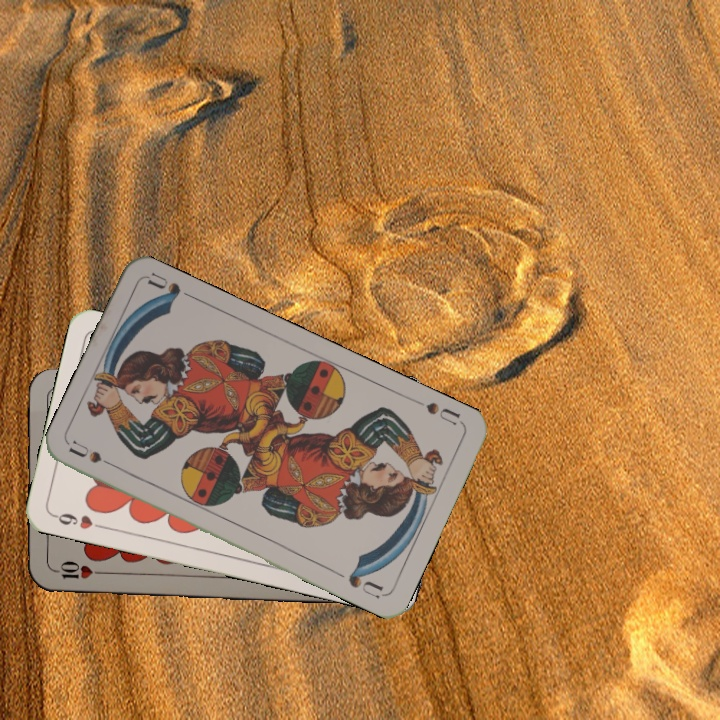H10: (49, 560, 108, 582)
H9: (49, 509, 108, 532)
SU: (65, 436, 123, 473), (409, 396, 465, 428)
